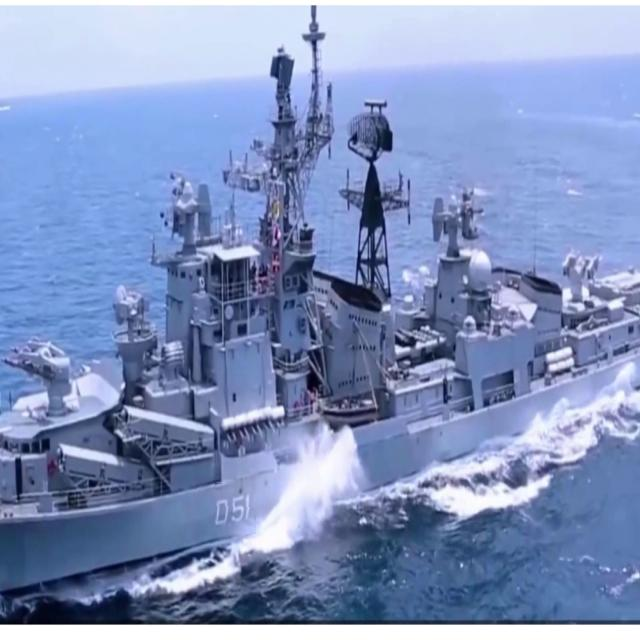OCR: (205, 482, 256, 534)
